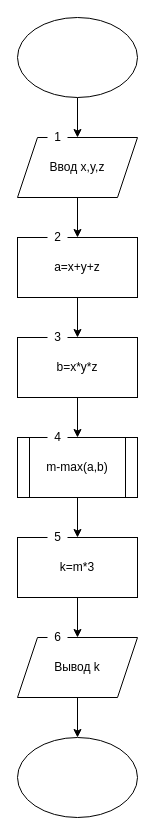
The diagram is 155 pixels wide and 835 high, and some of its shapes have lost their labels. The centre of each missing label's shape, as x and y in pixels:
Конец: [77,777]
Начало: [77,57]
